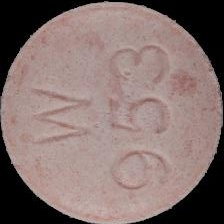0615-7643: (0, 0, 224, 224)
